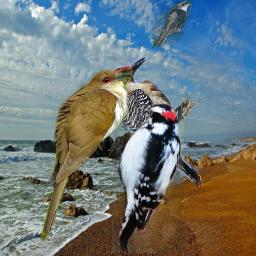Cuckoo: (39, 69, 133, 243), (152, 1, 192, 48)
Woodpecker: (106, 56, 203, 187), (110, 104, 185, 253)
